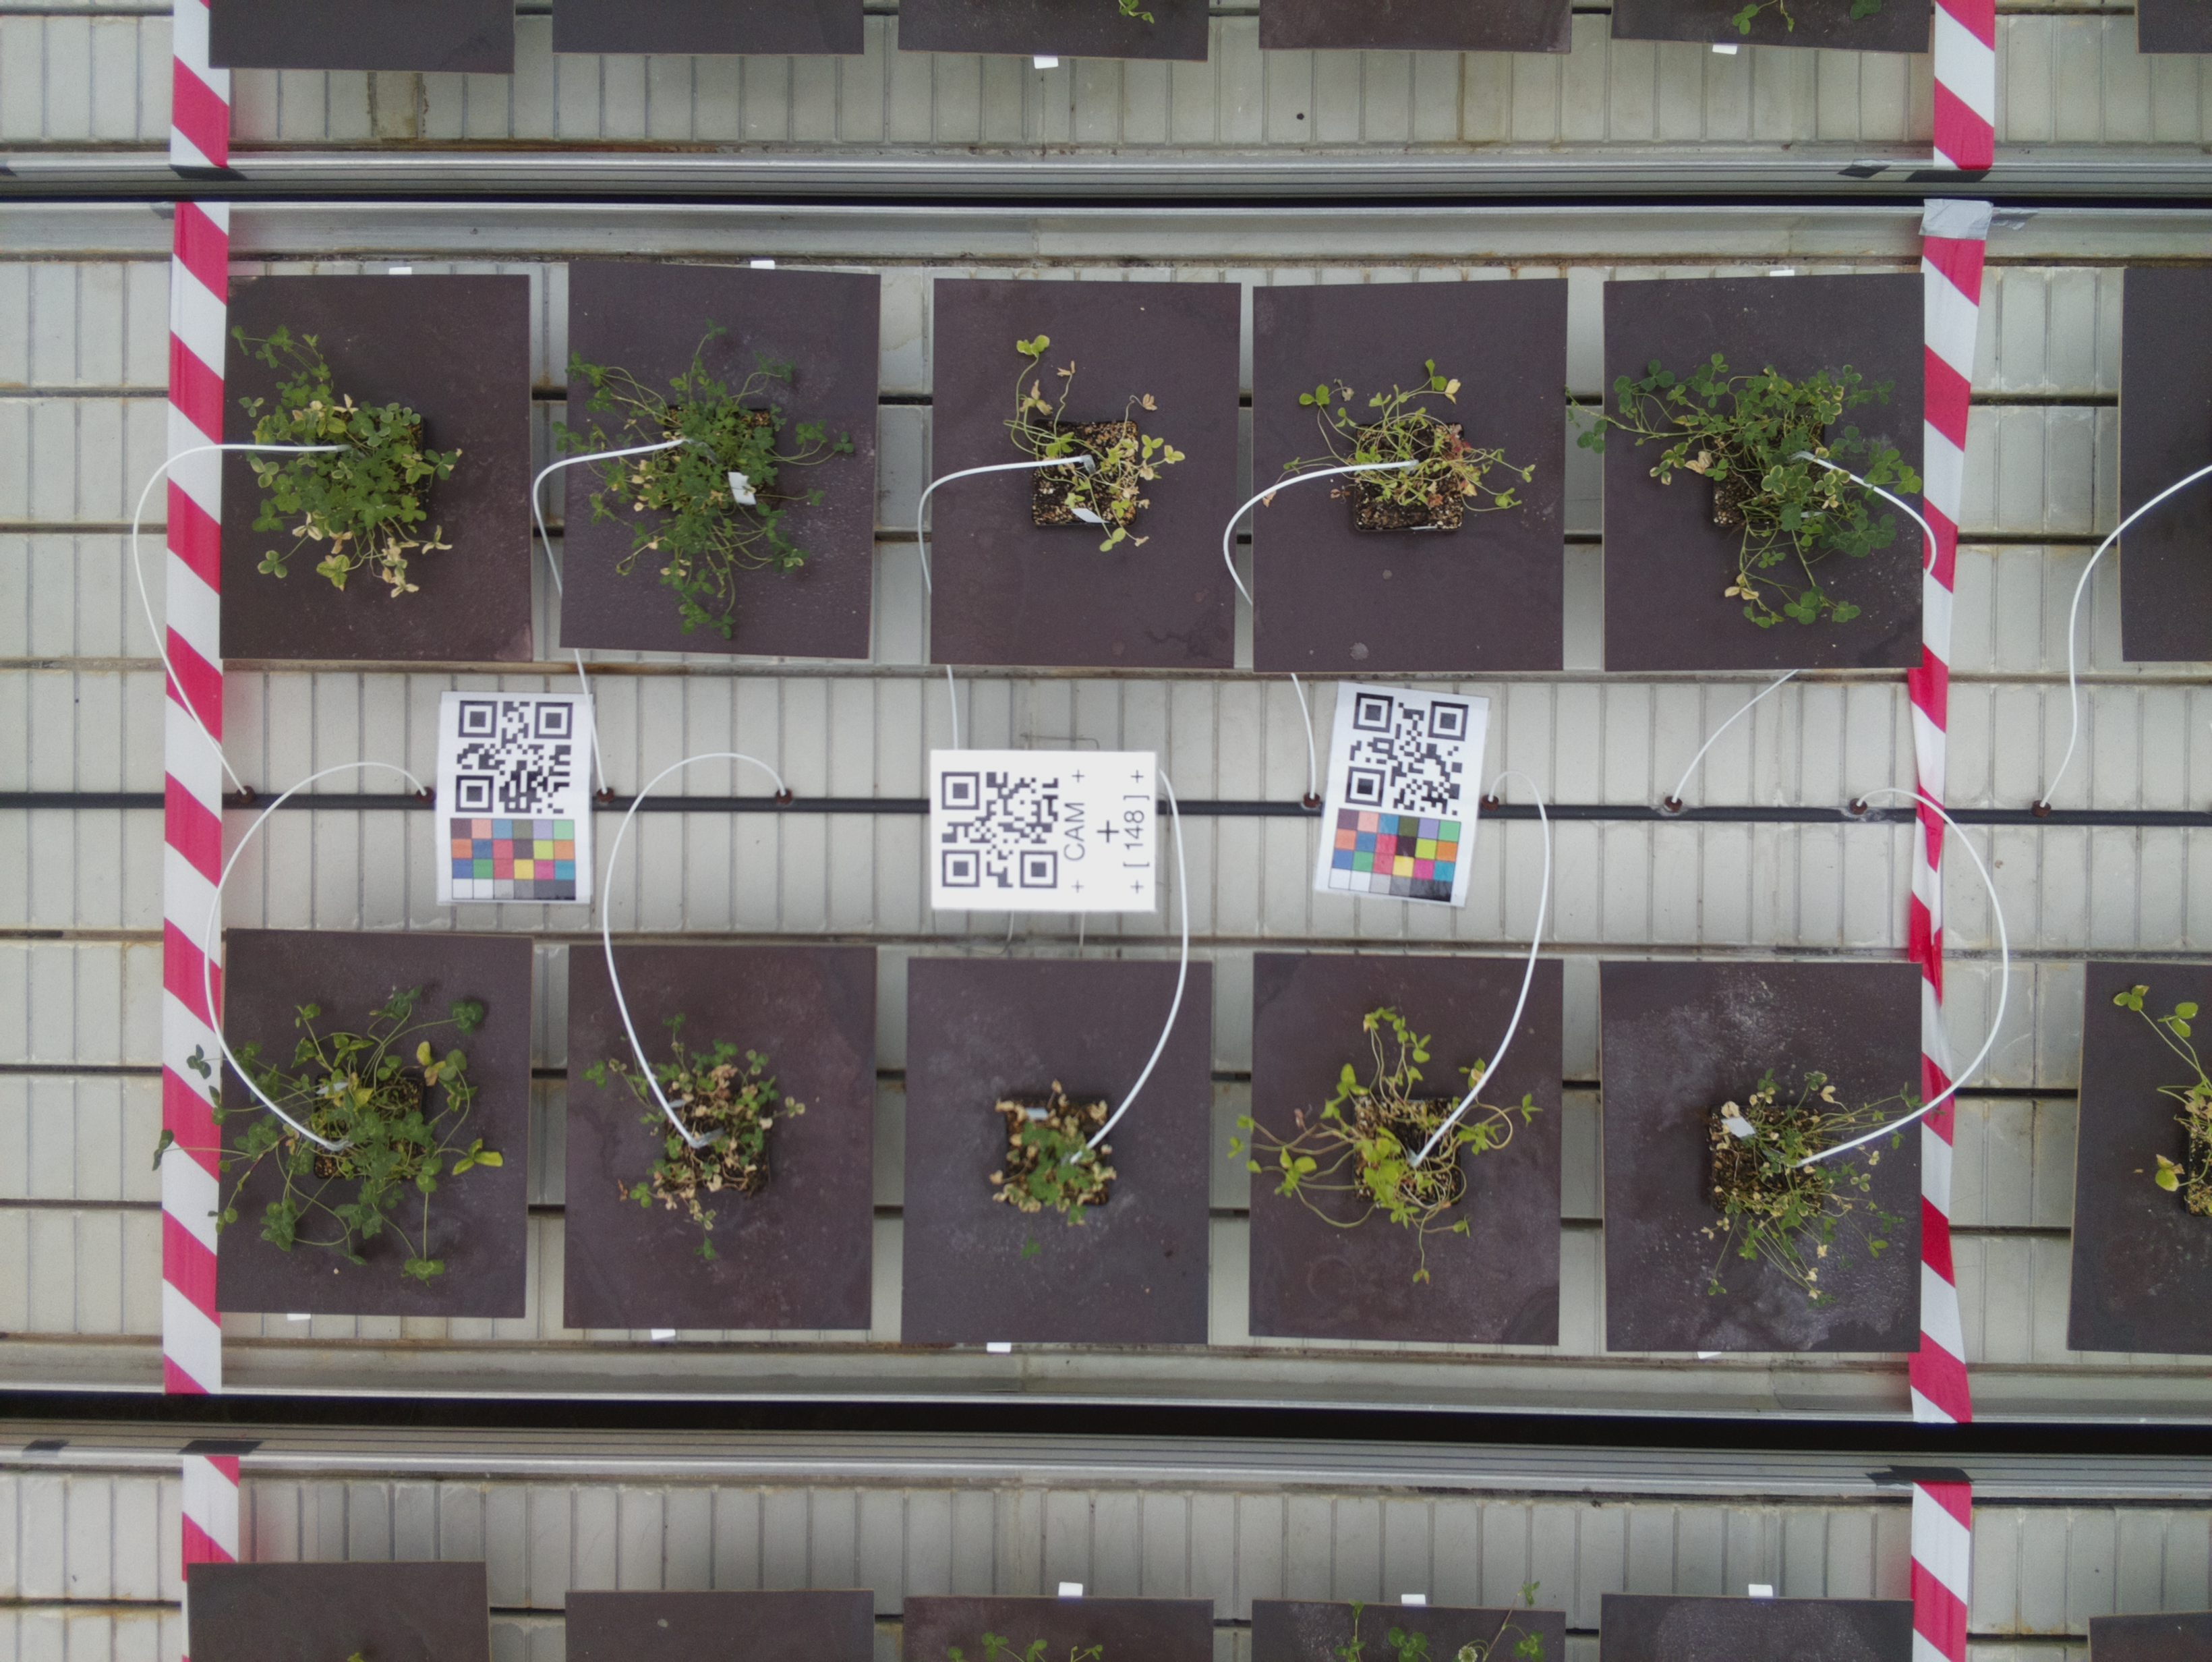POT: (1589, 955, 1933, 1355), (564, 262, 883, 669), (1601, 276, 1927, 670), (1248, 946, 1561, 1351), (223, 269, 541, 663), (560, 937, 873, 1336), (1252, 283, 1563, 677), (908, 953, 1219, 1348), (929, 276, 1236, 674), (220, 929, 531, 1320)
QRCODE: (931, 747, 1159, 911)
QRCOLOR: (1313, 683, 1493, 911), (435, 691, 594, 903)
